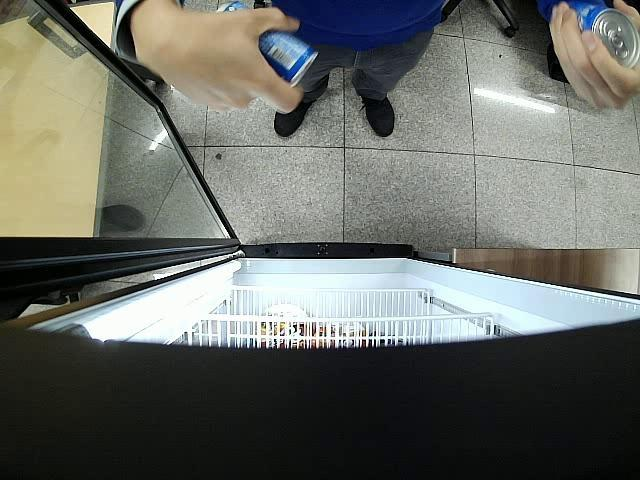15_letsbe: (216, 2, 316, 86), (540, 0, 638, 69)
